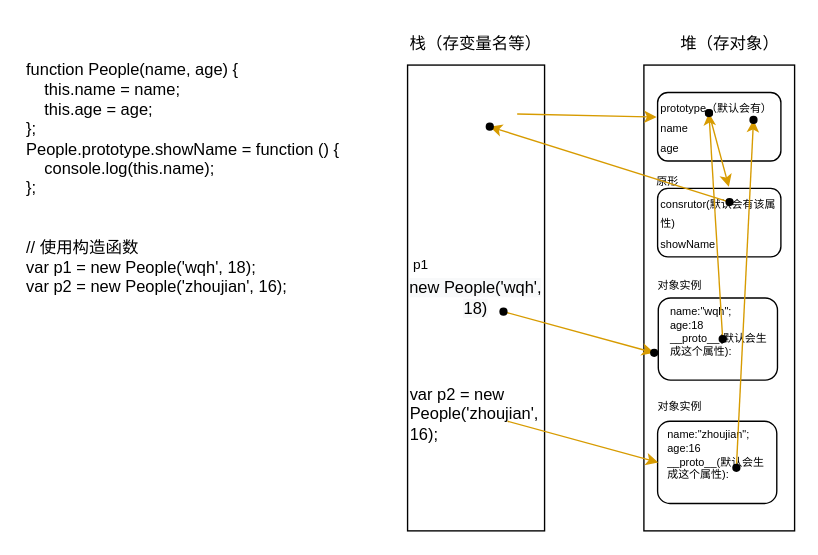
The diagram is 818 pixels wide and 555 high, and some of its shapes have lost their labels. Here are the shapes that lost their labels. From the top down, the centre of each, then its label:
[489,126]: People
[708,112]: 存储函数结构的那块内存
